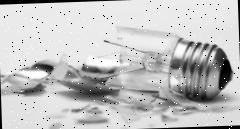lightbulb: (111, 21, 235, 103)
